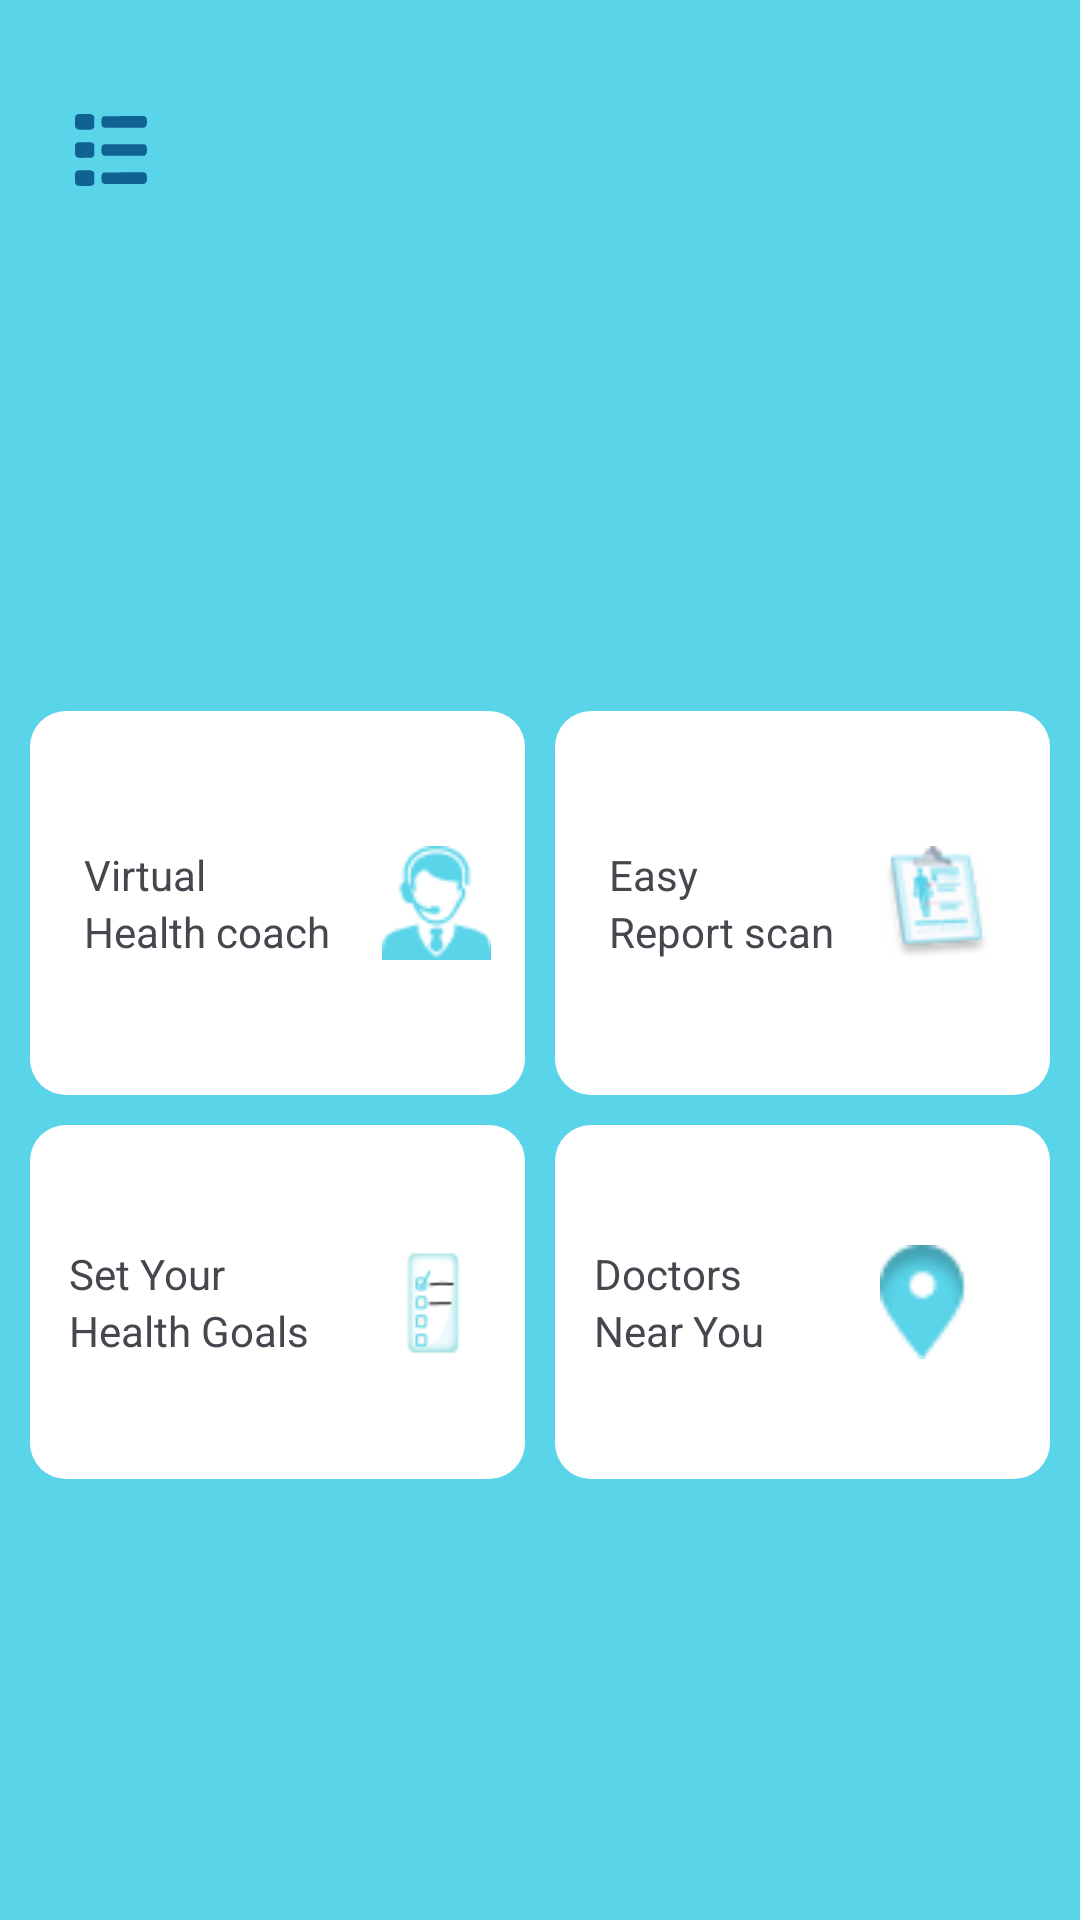

Where to tap for icons on this 1080 × 1920 app screen, as point (x, y):
health golas image: point (433, 1303)
location image: point (922, 1302)
menu image: point (111, 150)
virtual coach image: point (436, 903)
